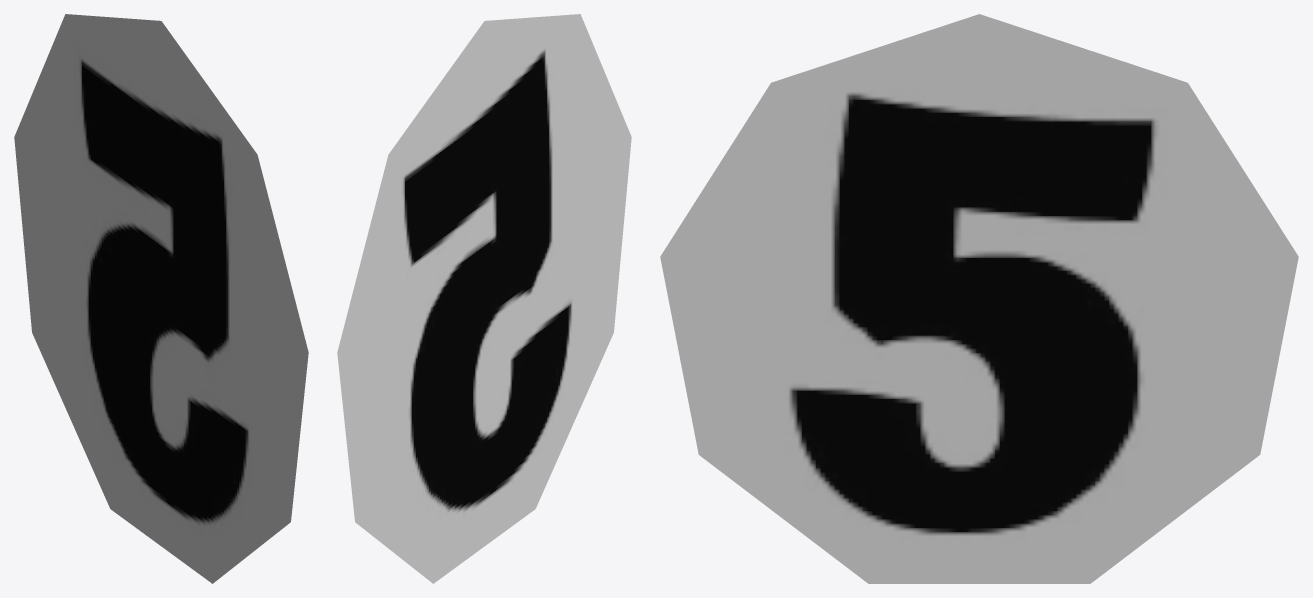
3 renders of one model, left to right at view 1: azimuth 30°, elevation 25°; view 2: azimuth 150°, elevation 25°; view 3: azimuth 270°, elevation 25°, orthographic. The views are drawn at different scales.
Parts seen in each view (by area): view 1: one; view 2: one; view 3: one.
Boxes of the visible parts, box(x1,y1,x2,y2) form: one: box(14, 14, 308, 583); one: box(337, 14, 631, 583); one: box(660, 14, 1298, 583).
Size of the model in its own units: 1.07e-08 by 0.2459 by 0.2497.
Materials: 1 (1 with a texture image).
